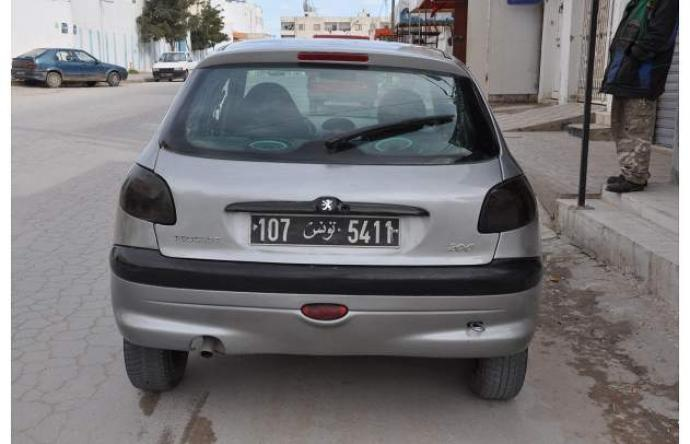LP: (248, 211, 403, 250)
